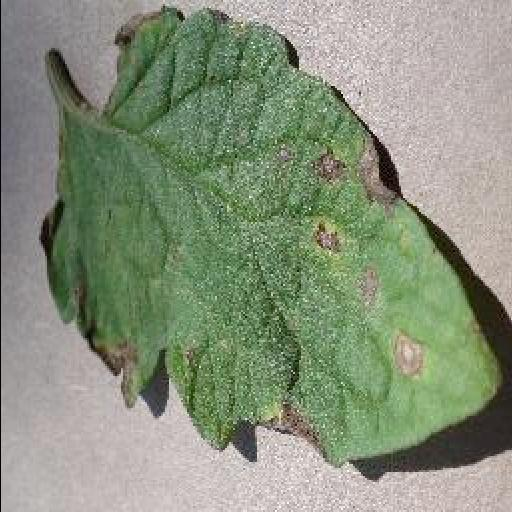disease_tomato: (42, 11, 504, 467)
